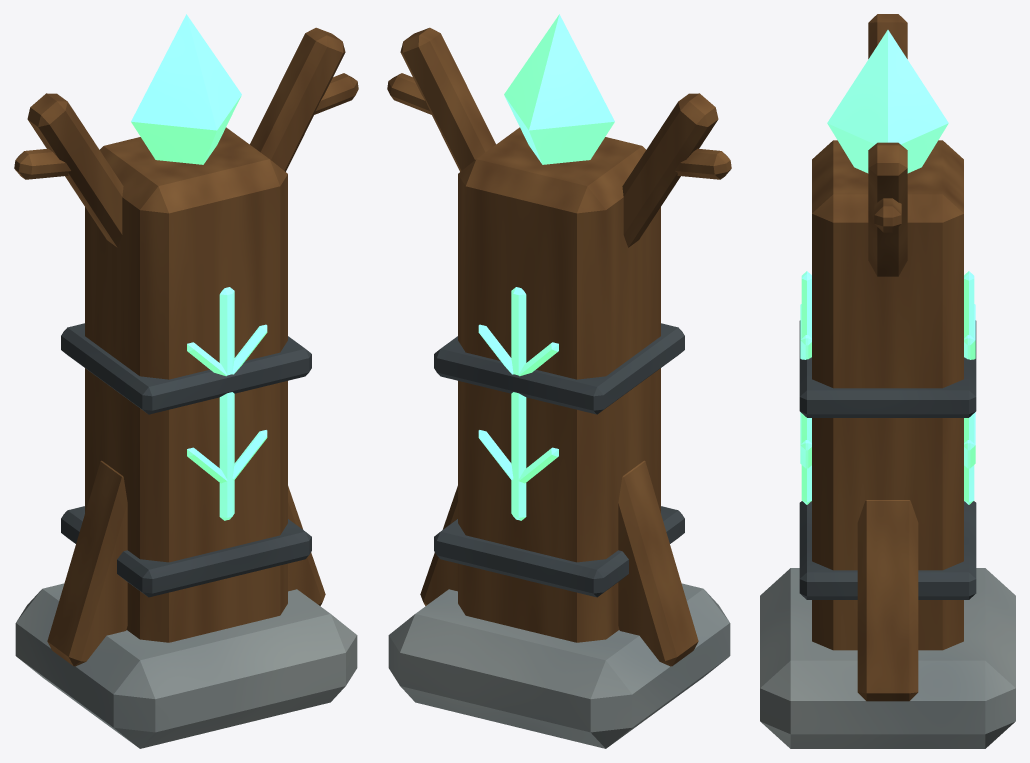
File: heal_totem.glb
The picture shows the model from 3 angles, left to right: view 1: azimuth 30°, elevation 25°; view 2: azimuth 150°, elevation 25°; view 3: azimuth 270°, elevation 25°; orthographic projection.
Parts seen in each view (by area): view 1: HealTotem_Mesh; view 2: HealTotem_Mesh; view 3: HealTotem_Mesh.
Boxes of the visible parts, x1,y1,x2,y2 form: HealTotem_Mesh: (14,14,358,748); HealTotem_Mesh: (387,14,731,748); HealTotem_Mesh: (760,14,1015,748).
Size of the model in its own units: 0.6421 by 1.22 by 0.42.
Materials: 1 (1 with a texture image).
